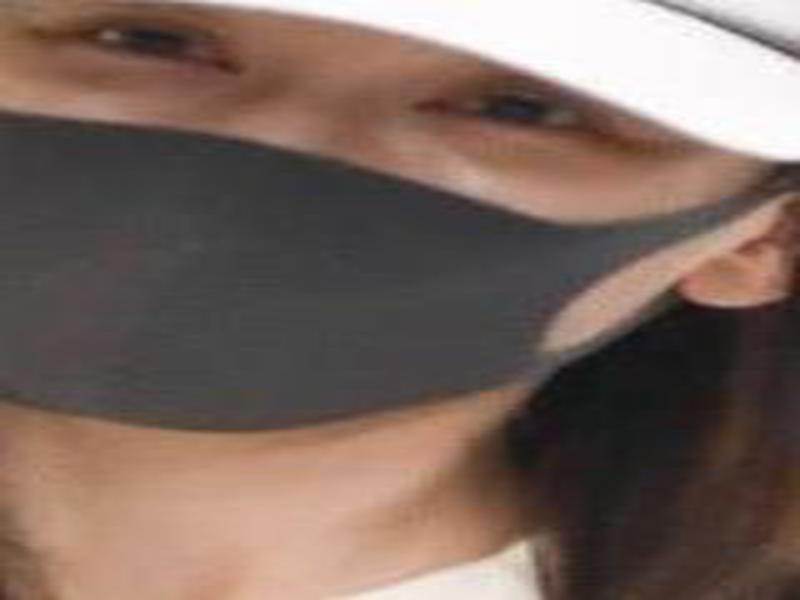with_mask: (1, 1, 794, 431)
